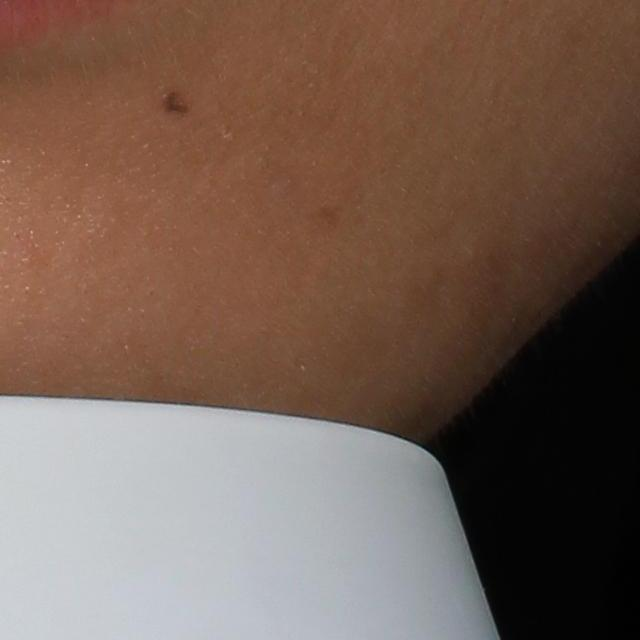nevus: (162, 86, 192, 115)
